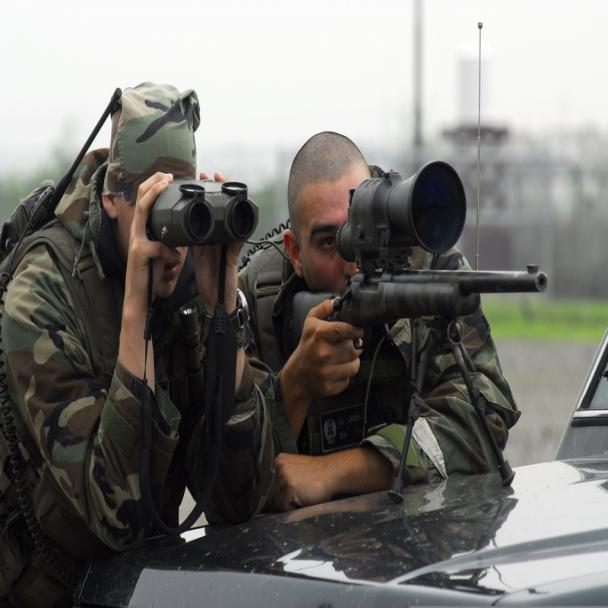Gun: (277, 168, 552, 356)
